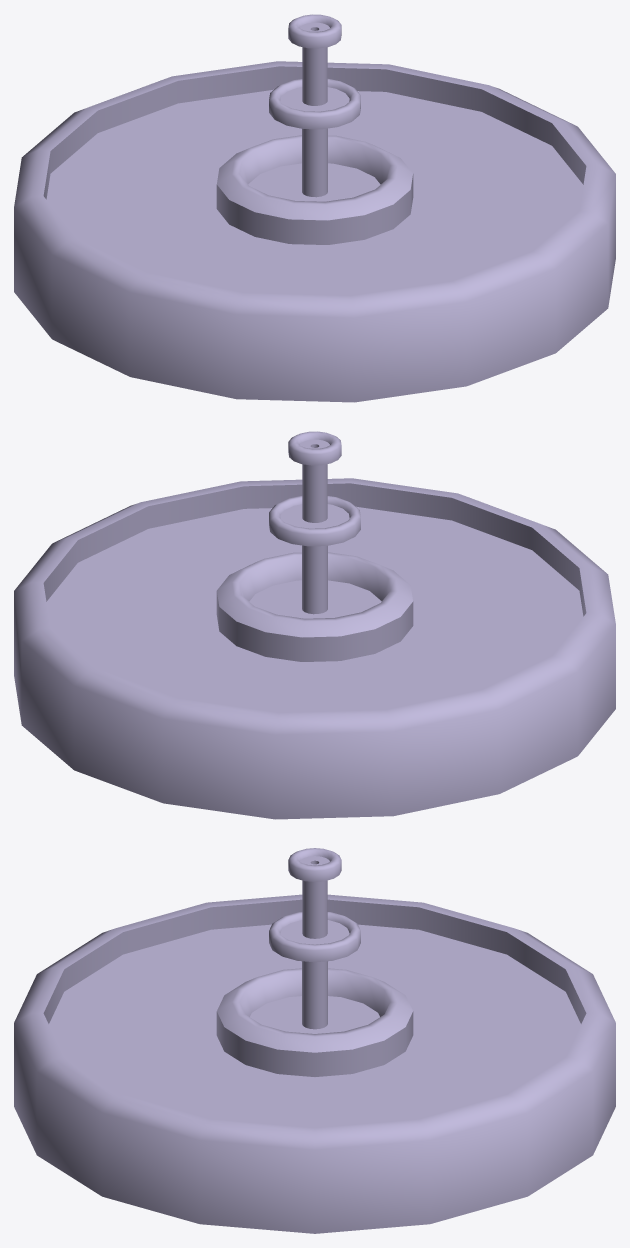
File: Fountain.fbx
The picture shows the model from 3 angles, top to bottom: view 1: azimuth 30°, elevation 25°; view 2: azimuth 150°, elevation 25°; view 3: azimuth 270°, elevation 25°; orthographic projection.
Parts seen in each view (by area): view 1: Fountain; view 2: Fountain; view 3: Fountain.
Part boxes in pixels (left/top/right/bottom): Fountain: left=14, top=14, right=615, bottom=402; Fountain: left=14, top=431, right=615, bottom=819; Fountain: left=14, top=848, right=615, bottom=1233.
Size of the model in its own units: 631 by 288 by 631.
